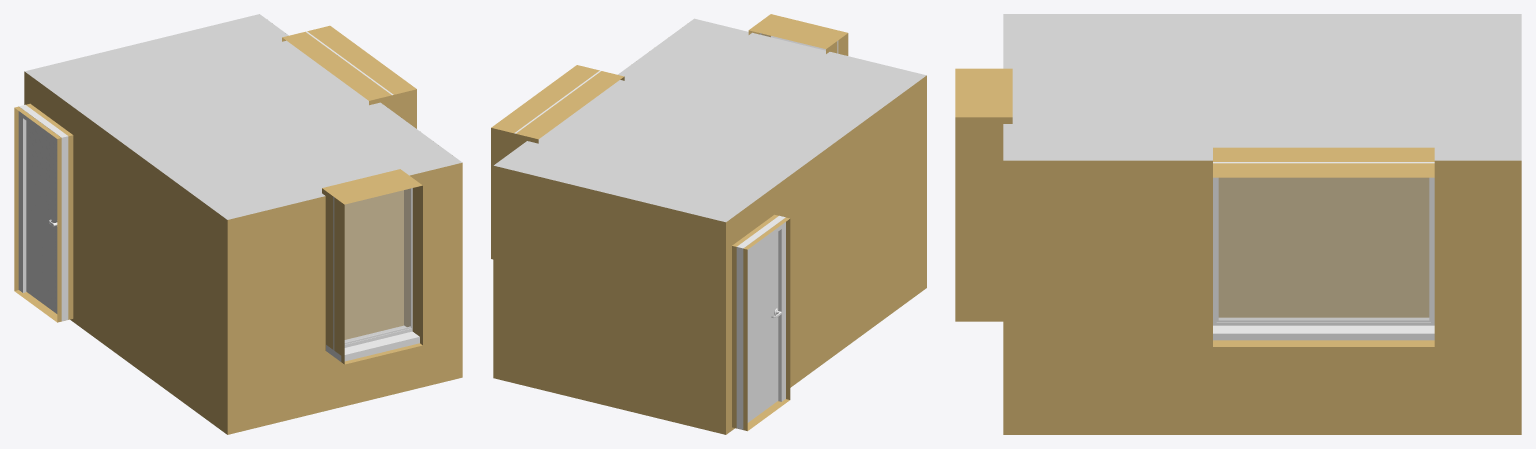
File: Office1.glb
The picture shows the model from 3 angles, left to right: view 1: azimuth 30°, elevation 25°; view 2: azimuth 150°, elevation 25°; view 3: azimuth 270°, elevation 25°; orthographic projection. The views are drawn at different scales.
Visible parts, largest first — view 1: Room_Office1, Office1_Window_South, DinningRoom_Door, Office1_Door_Frame; view 2: Room_Office1, DinningRoom_Door, Office1_Door_Frame; view 3: Room_Office1, Office1_Window_East.
Boxes of the visible parts, x1,y1,x2,y2 form: Room_Office1: [14, 14, 462, 434]; Office1_Window_South: [326, 188, 419, 361]; DinningRoom_Door: [26, 121, 57, 313]; Office1_Door_Frame: [18, 104, 68, 321]; Room_Office1: [491, 14, 926, 434]; DinningRoom_Door: [747, 232, 778, 422]; Office1_Door_Frame: [736, 215, 785, 429]; Room_Office1: [955, 14, 1521, 434]; Office1_Window_East: [1213, 162, 1434, 340].
Bounding box in the file's own units: 3.44 × 2.52 × 4.6.
